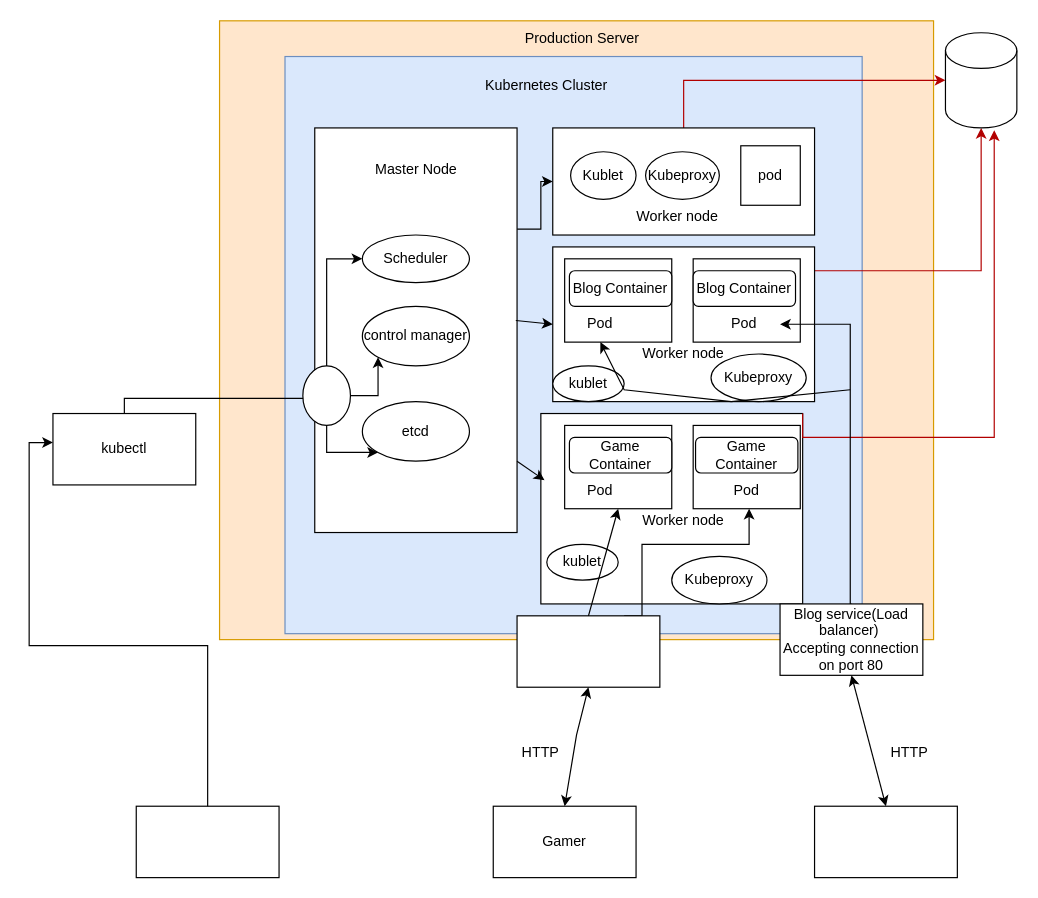
The diagram is 1038 pixels wide and 898 high, and some of its shapes have lost their labels. Here are the shapes that lost their labels. From the top down, the centre of each, then its label:
At point (980, 80): "Storage Volume".
At point (326, 395): "API".
At point (588, 651): "Game service (Load Balancer Accepting connection on port 80".
At point (207, 841): "My computer".
At point (885, 841): "Blogger".
